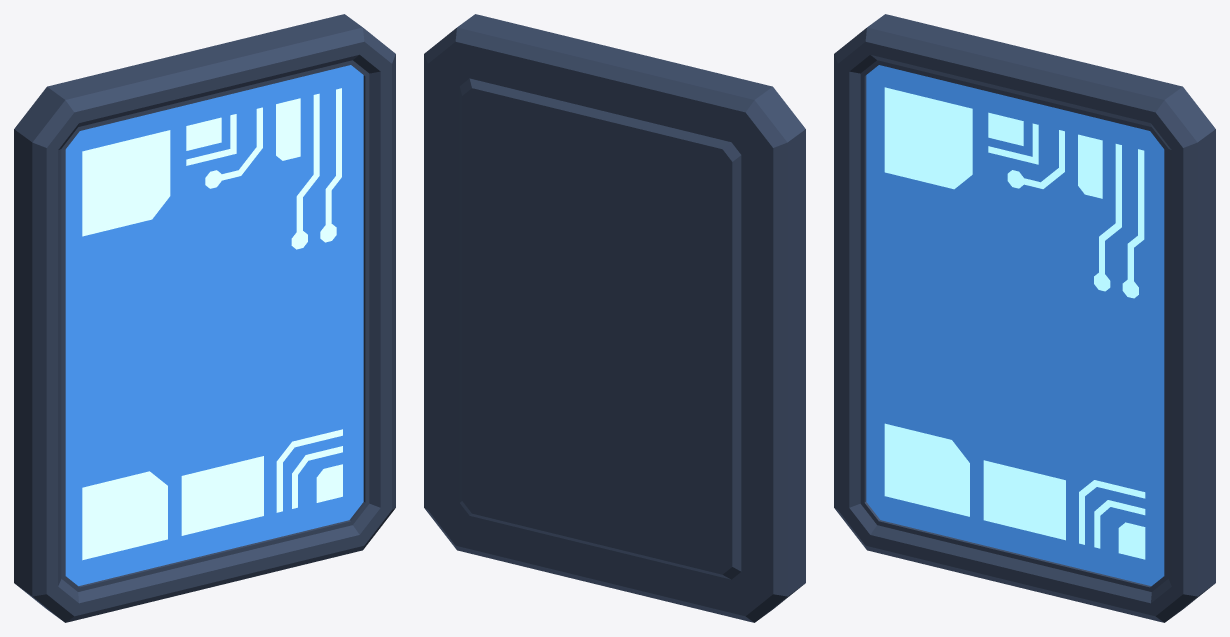
Rendered from data-tablet-cbbc3e.glb.
3 views of the same model, side by side, from view 1: azimuth 30°, elevation 25°; view 2: azimuth 150°, elevation 25°; view 3: azimuth 330°, elevation 25° (orthographic).
Visible parts, largest first — view 1: tablet-screen, tablet-frame, tablet-screen-marks; view 2: tablet-frame; view 3: tablet-screen, tablet-frame, tablet-screen-marks.
Boxes of the visible parts, left/top/right/bottom form: tablet-screen: left=65, top=65, right=363, bottom=586; tablet-frame: left=14, top=14, right=395, bottom=622; tablet-screen-marks: left=82, top=88, right=342, bottom=560; tablet-frame: left=424, top=14, right=805, bottom=622; tablet-screen: left=866, top=65, right=1164, bottom=586; tablet-frame: left=834, top=14, right=1215, bottom=622; tablet-screen-marks: left=884, top=87, right=1145, bottom=559.
Size of the model in its own units: 0.16 by 0.22 by 0.0245.
